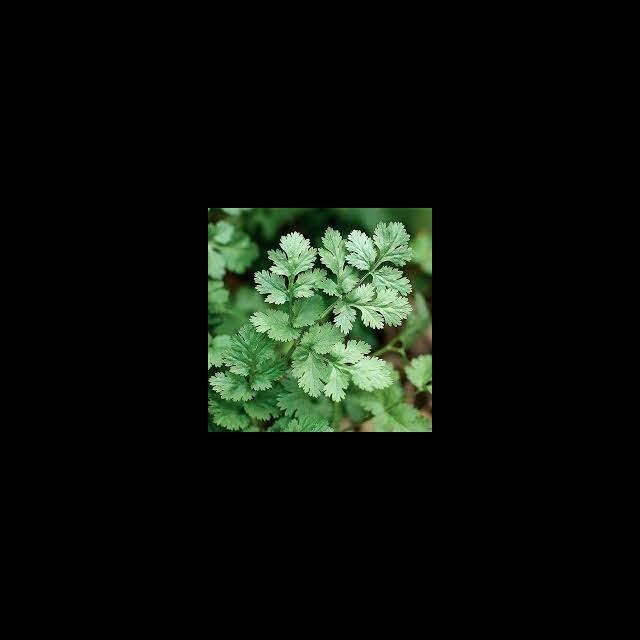cilantro: (208, 222, 432, 432)
